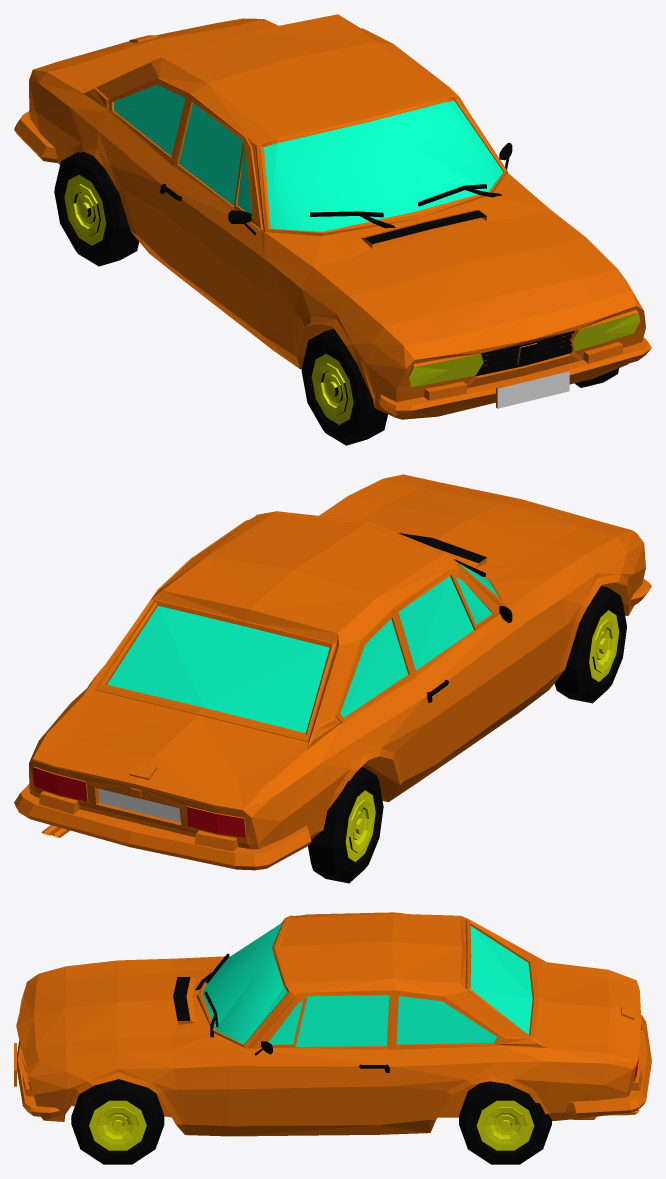
File: new car.fbx
3 views of the same model, one above another, from view 1: azimuth 30°, elevation 25°; view 2: azimuth 150°, elevation 25°; view 3: azimuth 270°, elevation 25° (orthographic). The views are drawn at different scales.
Parts seen in each view (by area): view 1: Peugeot_504_coupe; view 2: Peugeot_504_coupe; view 3: Peugeot_504_coupe.
Part boxes in pixels (<box>): Peugeot_504_coupe: <box>14,14,651,445</box>; Peugeot_504_coupe: <box>14,474,651,883</box>; Peugeot_504_coupe: <box>14,912,651,1164</box>.
Size of the model in its own units: 178 by 132 by 439.
